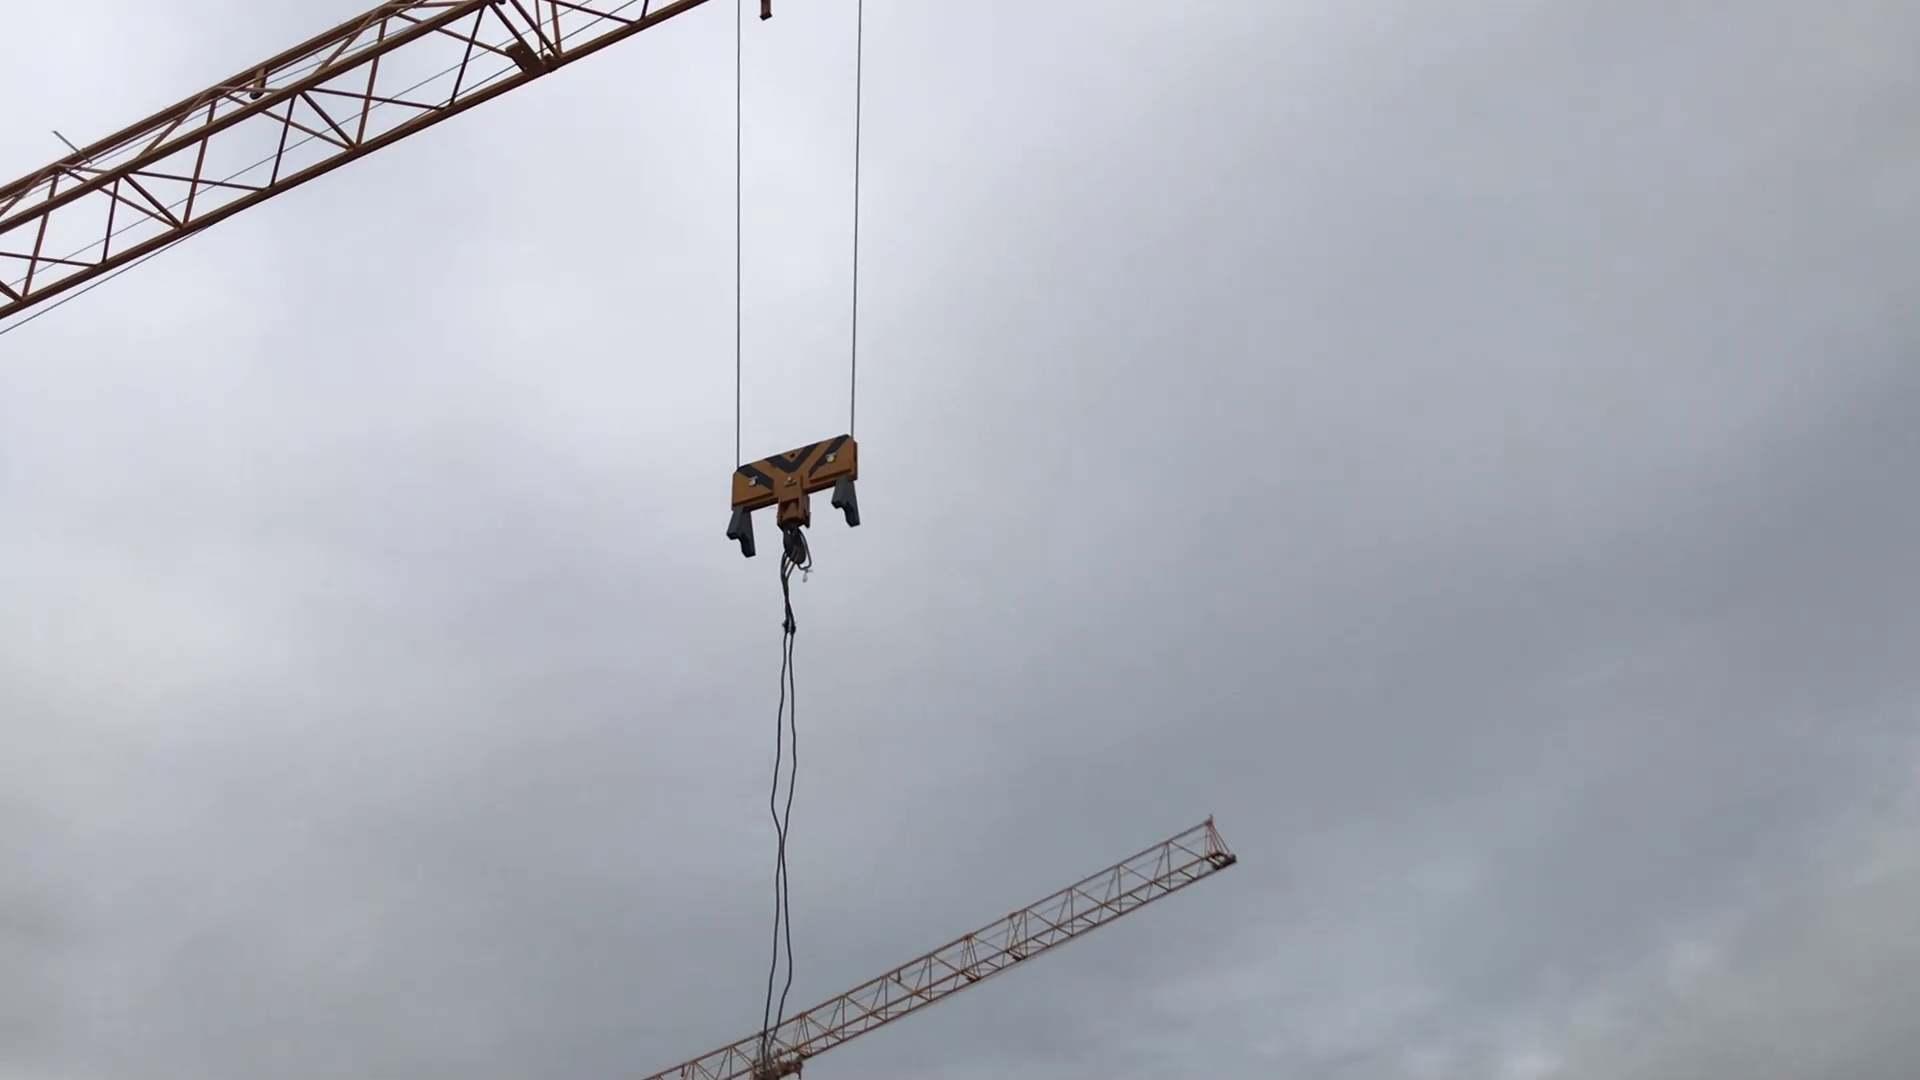hook: (719, 422, 885, 589)
